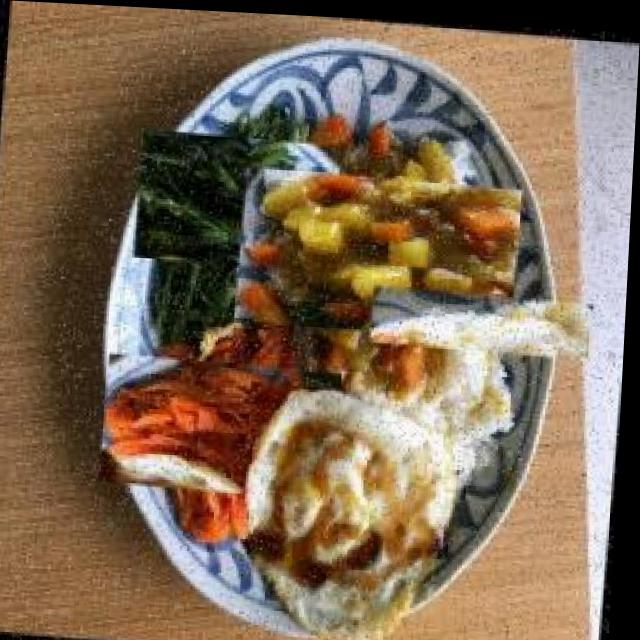carrot_eggs: (126, 328, 322, 524)
curry: (266, 136, 498, 368)
fried_eggs: (237, 379, 471, 640)
rice: (410, 242, 559, 391)
water_spinach: (151, 112, 326, 286)
